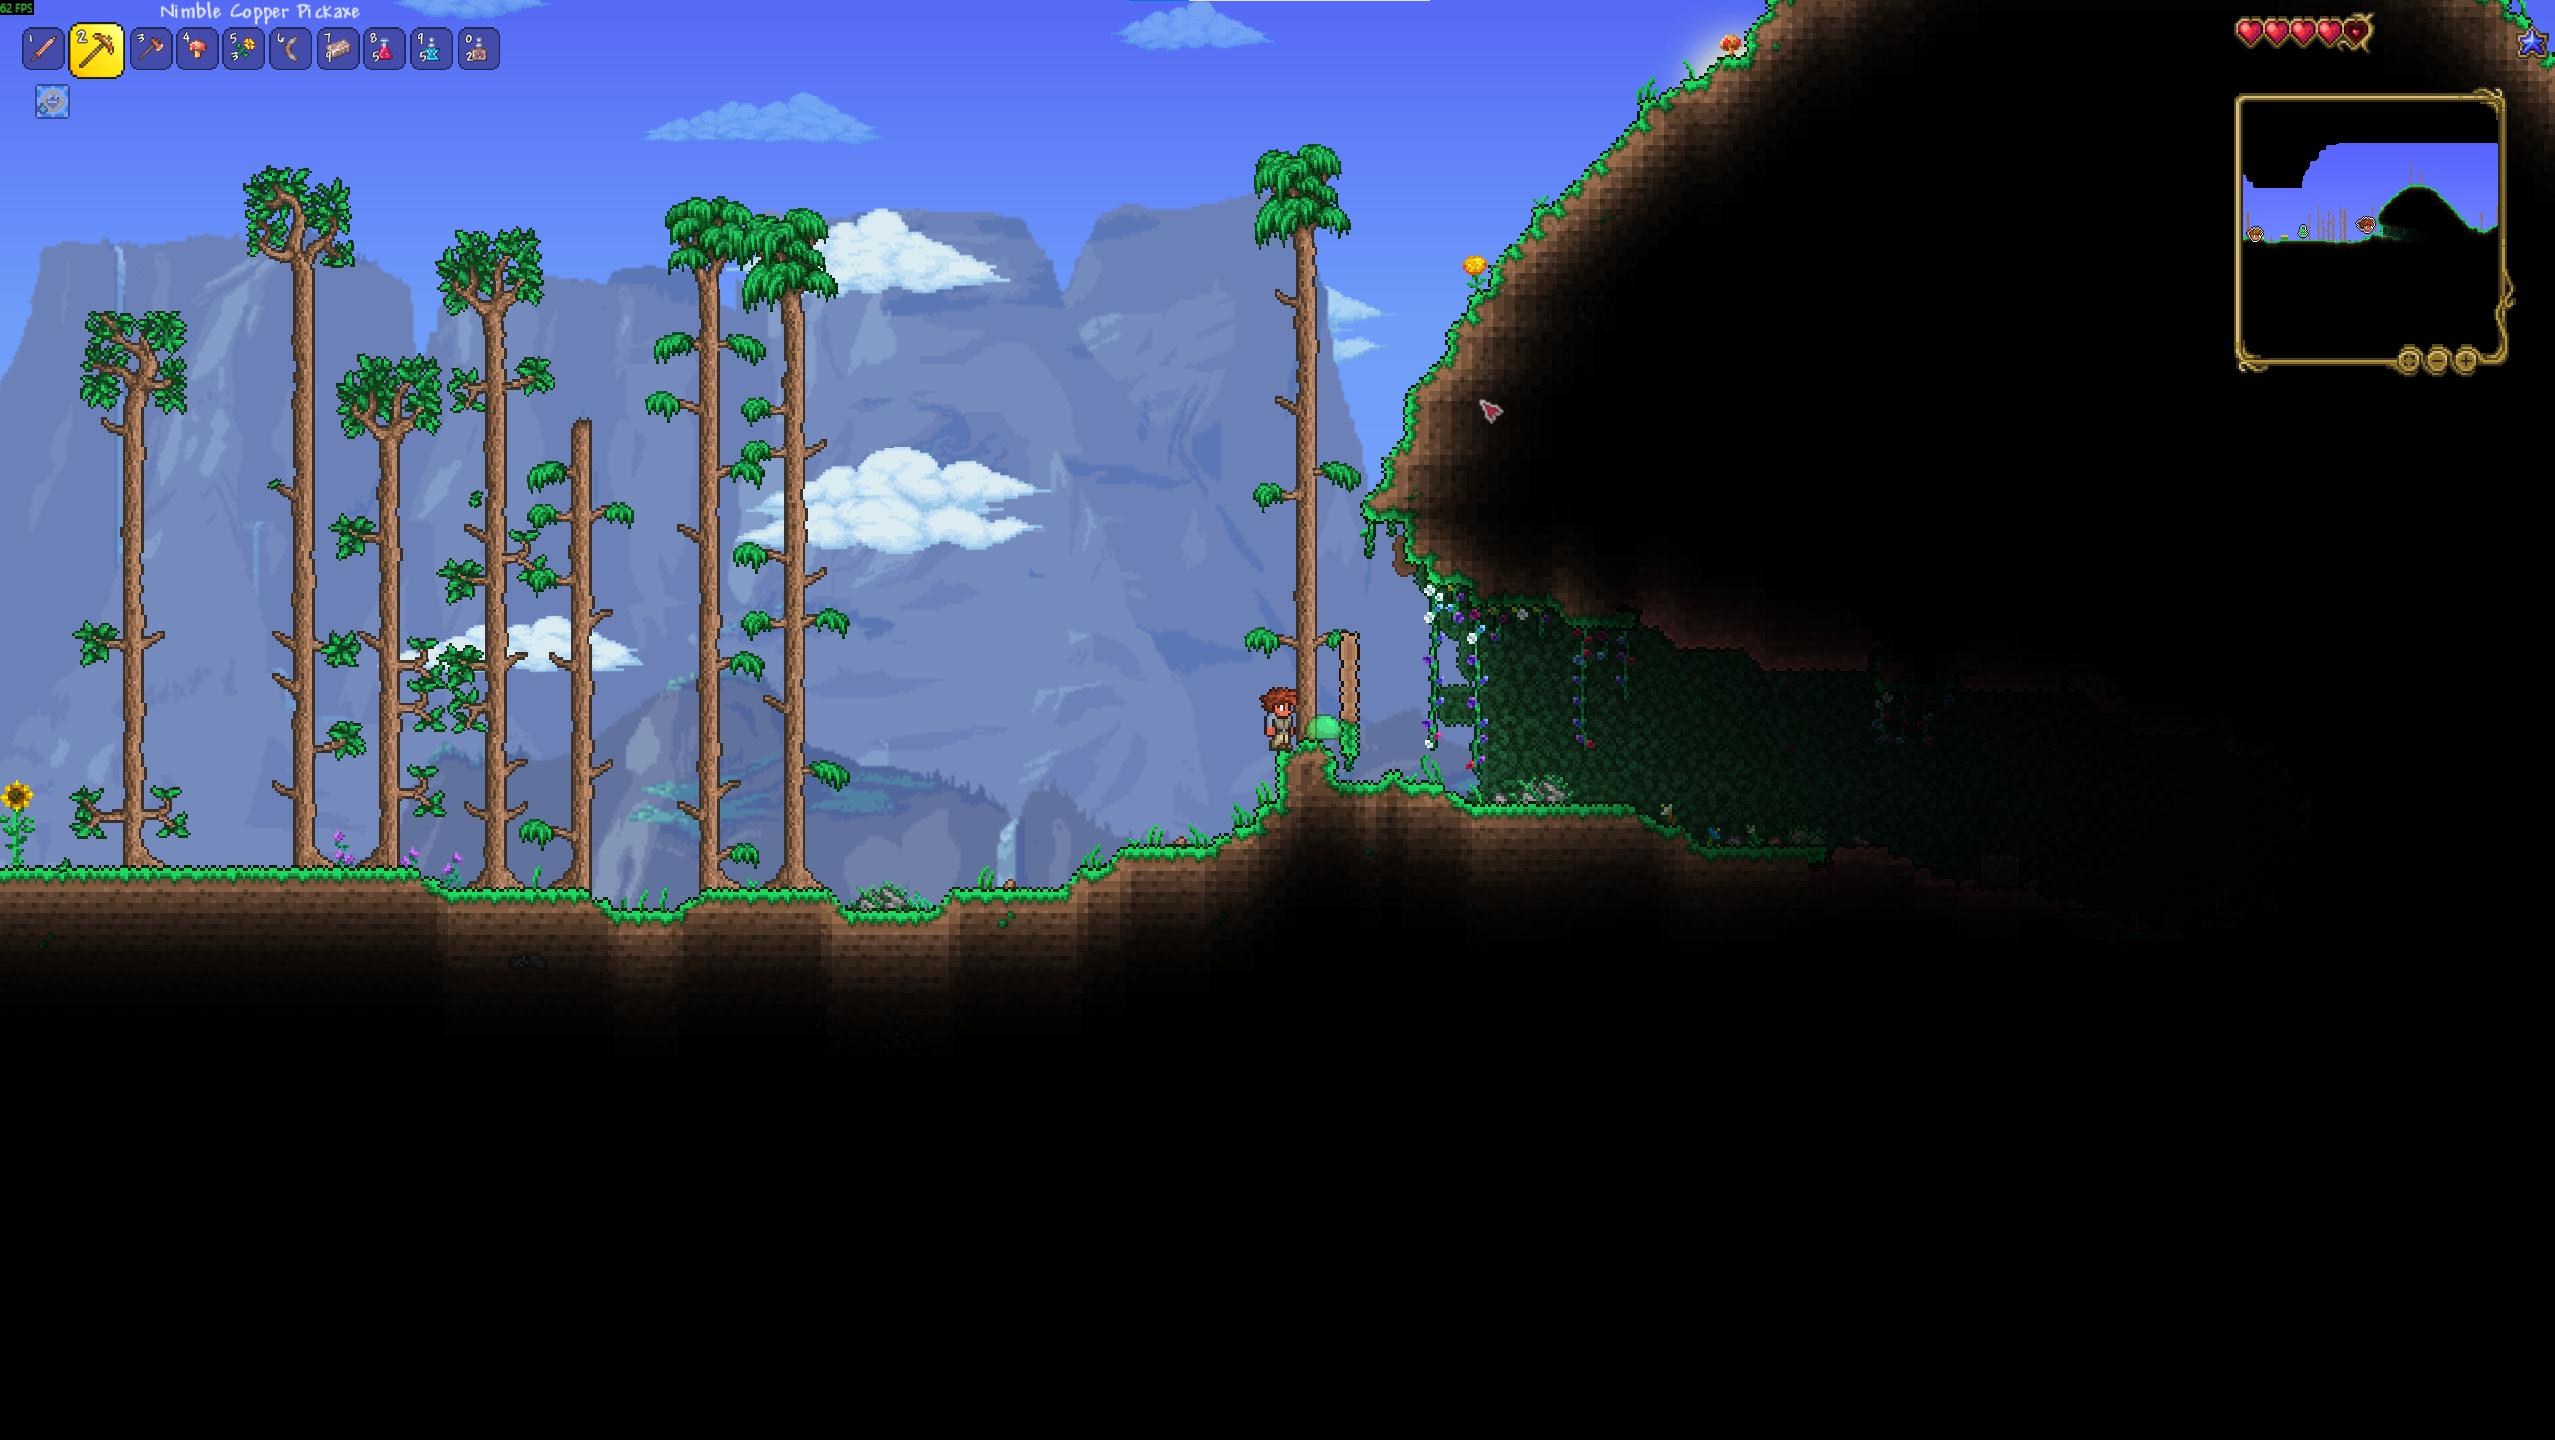Green Slime: (1302, 709, 1344, 744)
